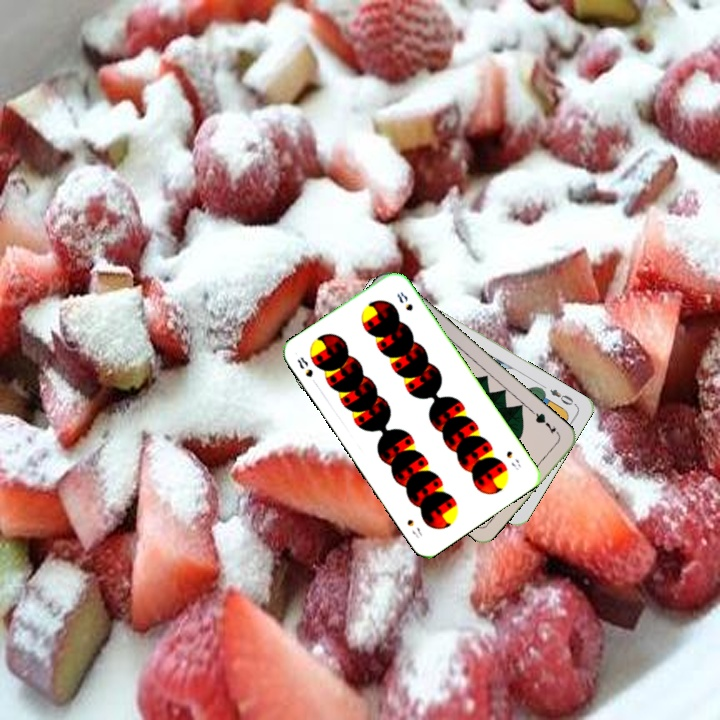EO: (546, 385, 579, 408)
G7: (528, 407, 562, 438)
S8: (293, 353, 316, 380), (502, 447, 523, 473)
